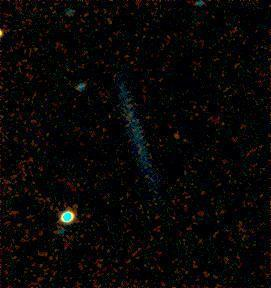star: (164, 121, 194, 151)
